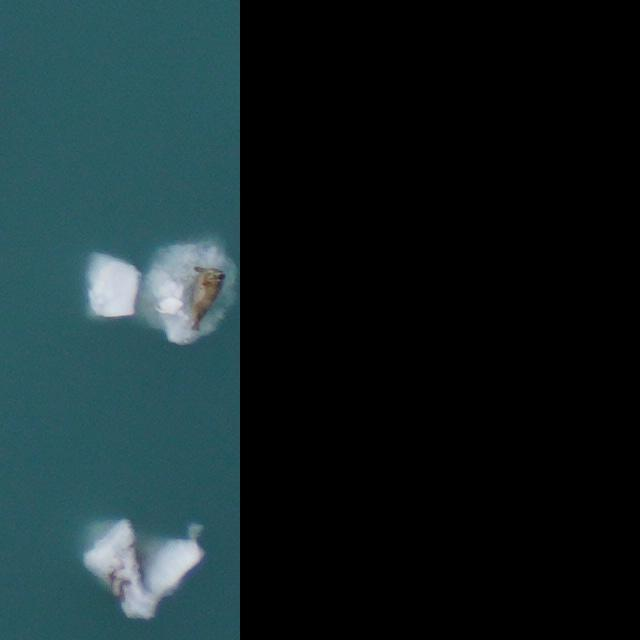seal: (189, 266, 225, 331)
